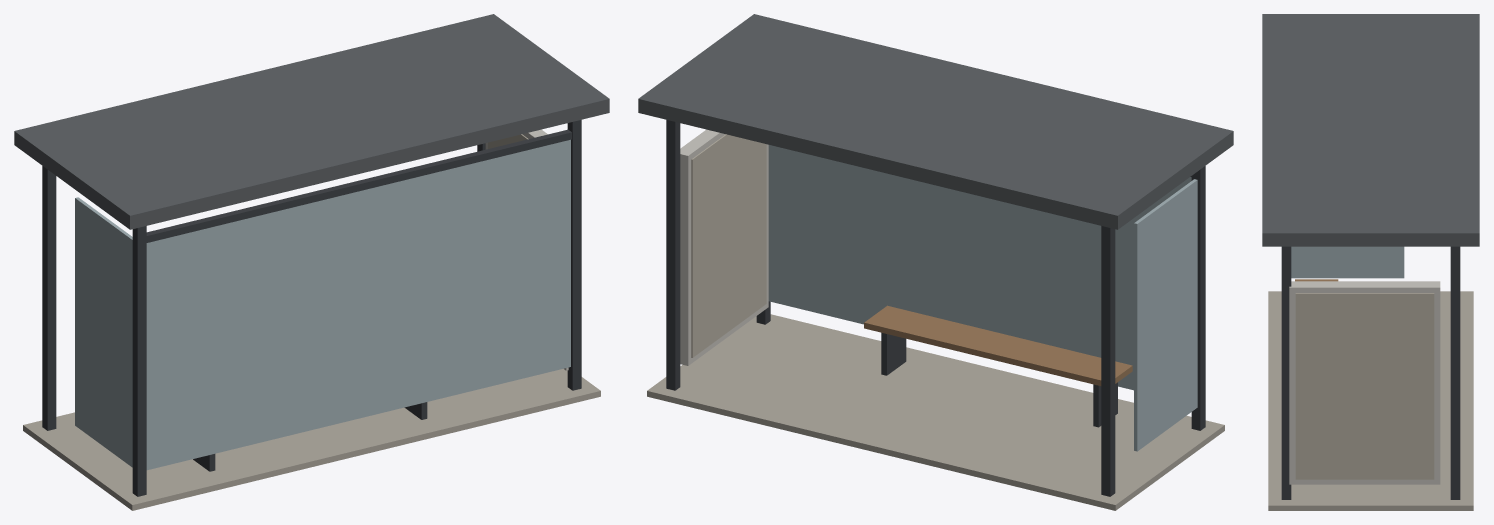
The model's file is bus-shelter-CB7f96O2.glb.
3 renders of one model, left to right at view 1: azimuth 30°, elevation 25°; view 2: azimuth 150°, elevation 25°; view 3: azimuth 270°, elevation 25°, orthographic. The views are drawn at different scales.
Visible parts, largest first — view 1: bus-shelter; view 2: bus-shelter; view 3: bus-shelter.
Part boxes in pixels (x1,y1,x2,y2): bus-shelter: (14,14,609,510); bus-shelter: (638,14,1233,510); bus-shelter: (1262,14,1479,510).
Size of the model in its own units: 4.3 by 2.56 by 1.8.
